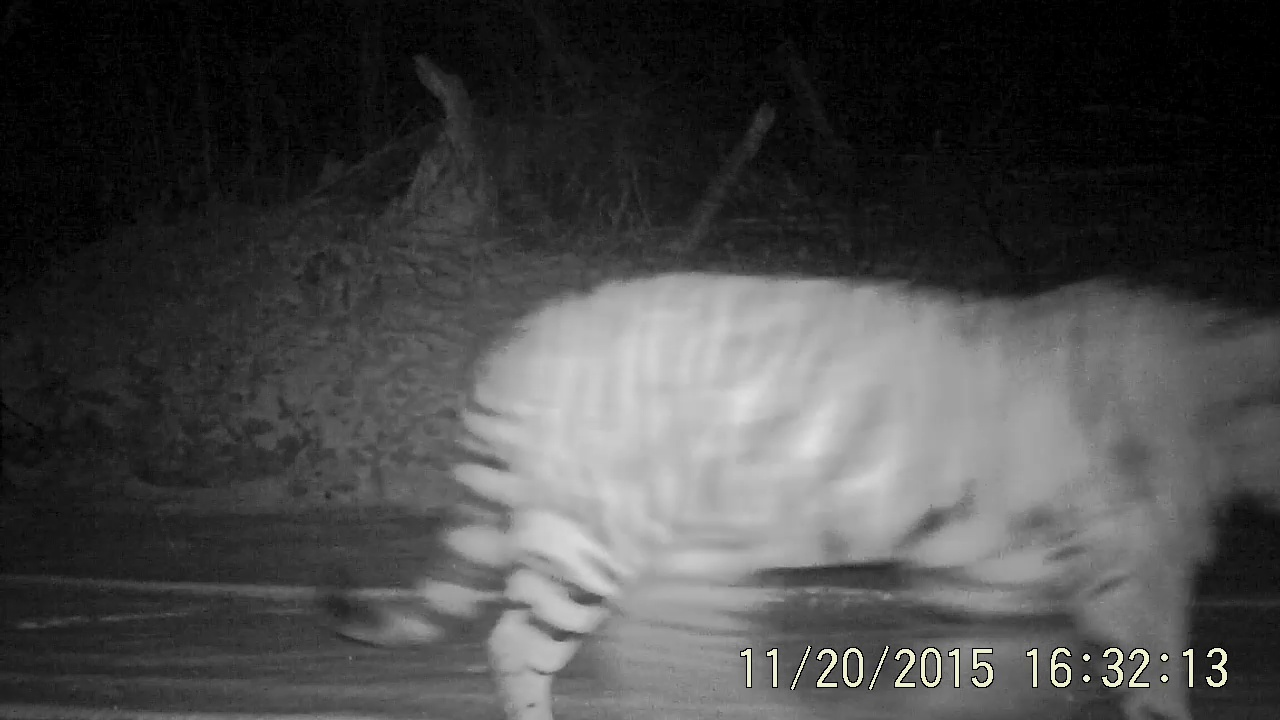Tiger: (304, 173, 1280, 720)
